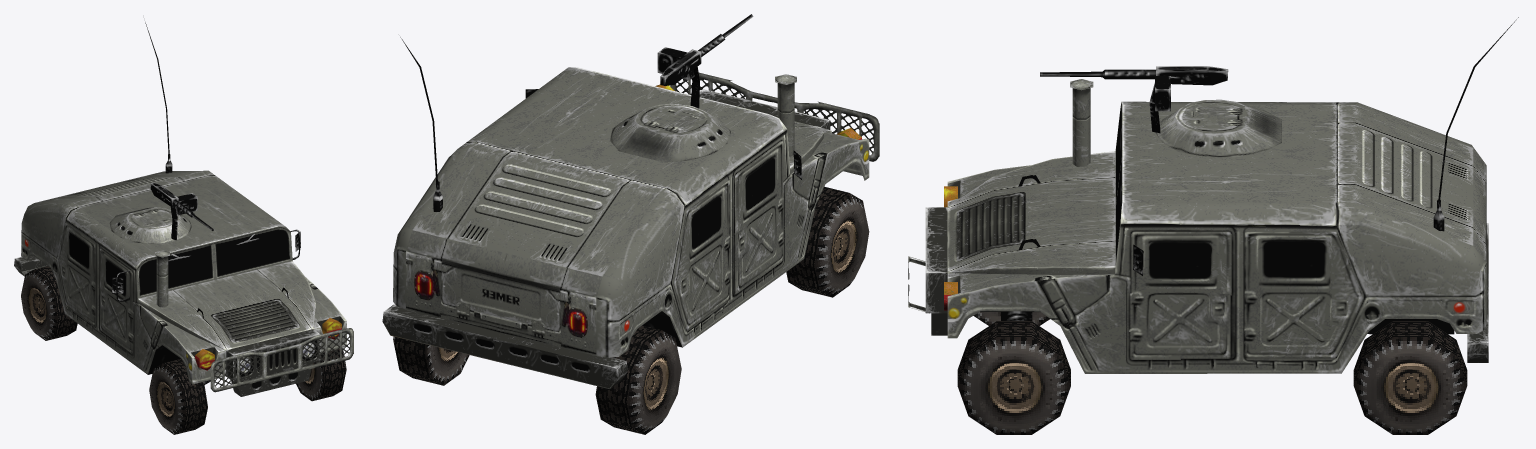
Rendered from hammer.FBX.
3 views of the same model, side by side, from view 1: azimuth 30°, elevation 25°; view 2: azimuth 150°, elevation 25°; view 3: azimuth 270°, elevation 25° (orthographic). The views are drawn at different scales.
Visible parts, largest first — view 1: Hummer, Cylinder04, Cylinder03, Cylinder01, gun; view 2: Hummer, Cylinder03, Cylinder04, Cylinder02, gun; view 3: Hummer, Cylinder02, Cylinder01, gun.
Part boxes in pixels (x1,y1,x2,y2): Hummer: (14,154,353,396); Cylinder04: (149,359,207,434); Cylinder03: (21,266,77,340); Cylinder01: (296,348,346,401); gun: (150,182,213,240); Hummer: (382,67,879,388); Cylinder03: (595,325,681,434); Cylinder04: (786,186,869,297); Cylinder02: (393,336,469,385); gun: (657,14,753,108); Hummer: (908,79,1488,373); Cylinder02: (1353,321,1467,434); Cylinder01: (957,321,1070,434); gun: (1040,66,1228,133).
Size of the model in its own units: 44.95 by 59.66 by 81.76.
